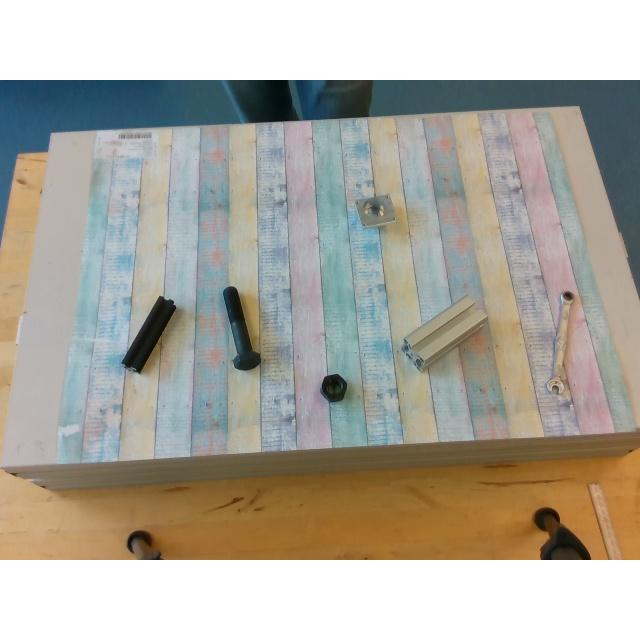F20_20_B: (122, 296, 174, 368)
M20: (322, 374, 346, 400)
M20_100: (223, 286, 259, 369)
S40_40_G: (403, 296, 487, 368)
Wrench: (550, 290, 574, 386)
